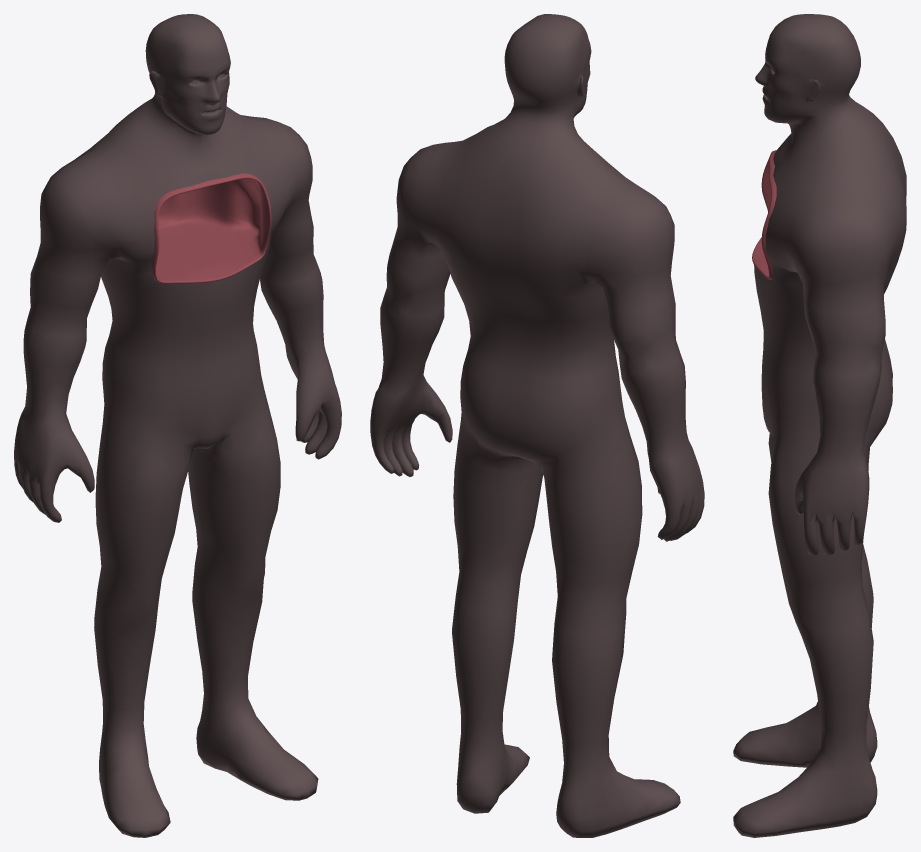
Rendered from HeartRoomBody.fbx.
3 views of the same model, side by side, from view 1: azimuth 30°, elevation 25°; view 2: azimuth 150°, elevation 25°; view 3: azimuth 270°, elevation 25° (orthographic).
Visible parts, largest first — view 1: pCube3, pCube4; view 2: pCube3; view 3: pCube3, pCube4.
Part boxes in pixels (<box>): pCube3: <box>14,14,341,837</box>; pCube4: <box>151,173,271,283</box>; pCube3: <box>370,14,704,837</box>; pCube3: <box>733,14,906,837</box>; pCube4: <box>752,150,776,279</box>.
Bounding box in the file's own units: 3782 × 9073 × 1838.
